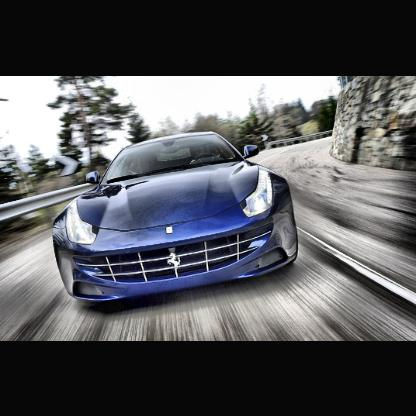Ferrari FF Coupe 2012: (53, 131, 302, 315)
